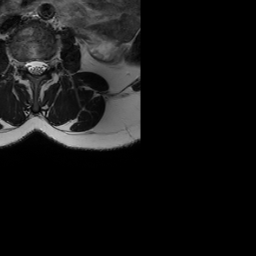CCS_normal: (33, 53, 39, 82)
LFS_normal: (47, 50, 55, 74)
LLS_normal: (39, 52, 47, 79)
RFS_normal: (17, 52, 25, 74)
RLS_normal: (25, 52, 33, 79)
